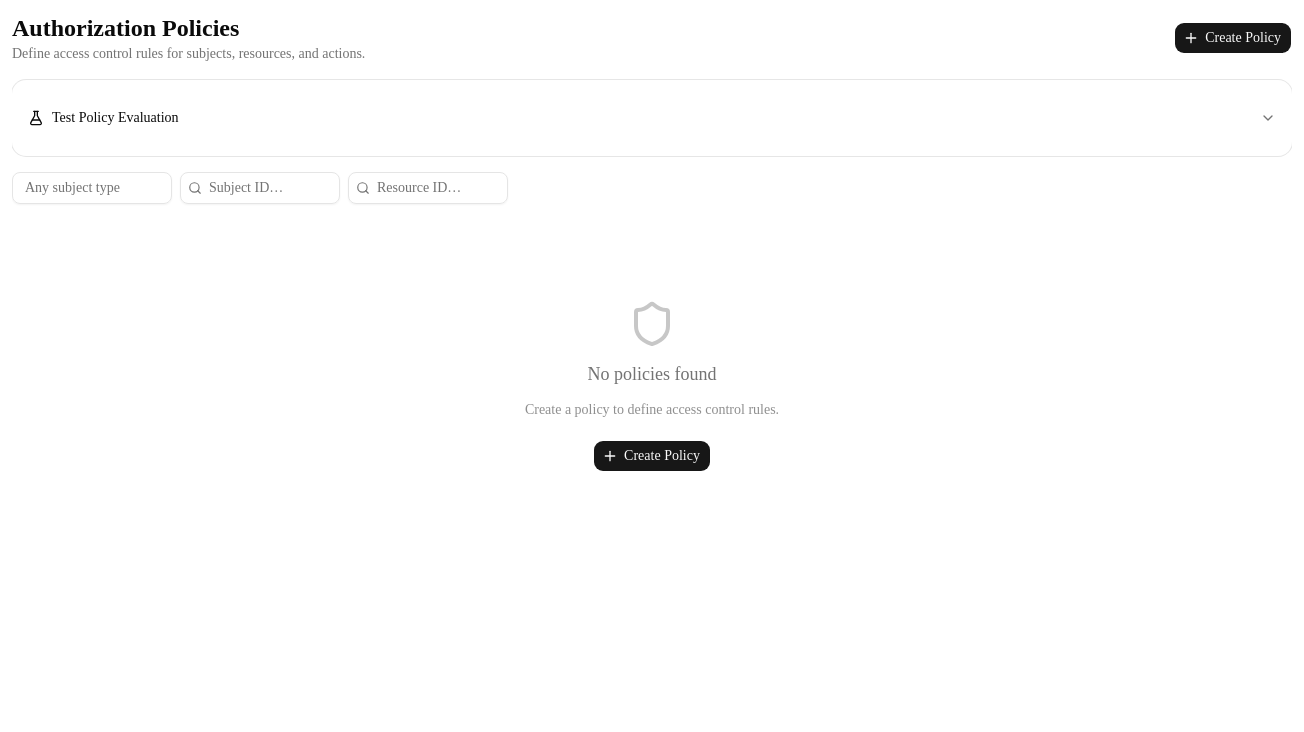
Test: PoliciesPage › clears the previous decision when a later evaluation fails
Click the button "Test Policy Evaluation" at (115, 118), box [12,96,1292,140]
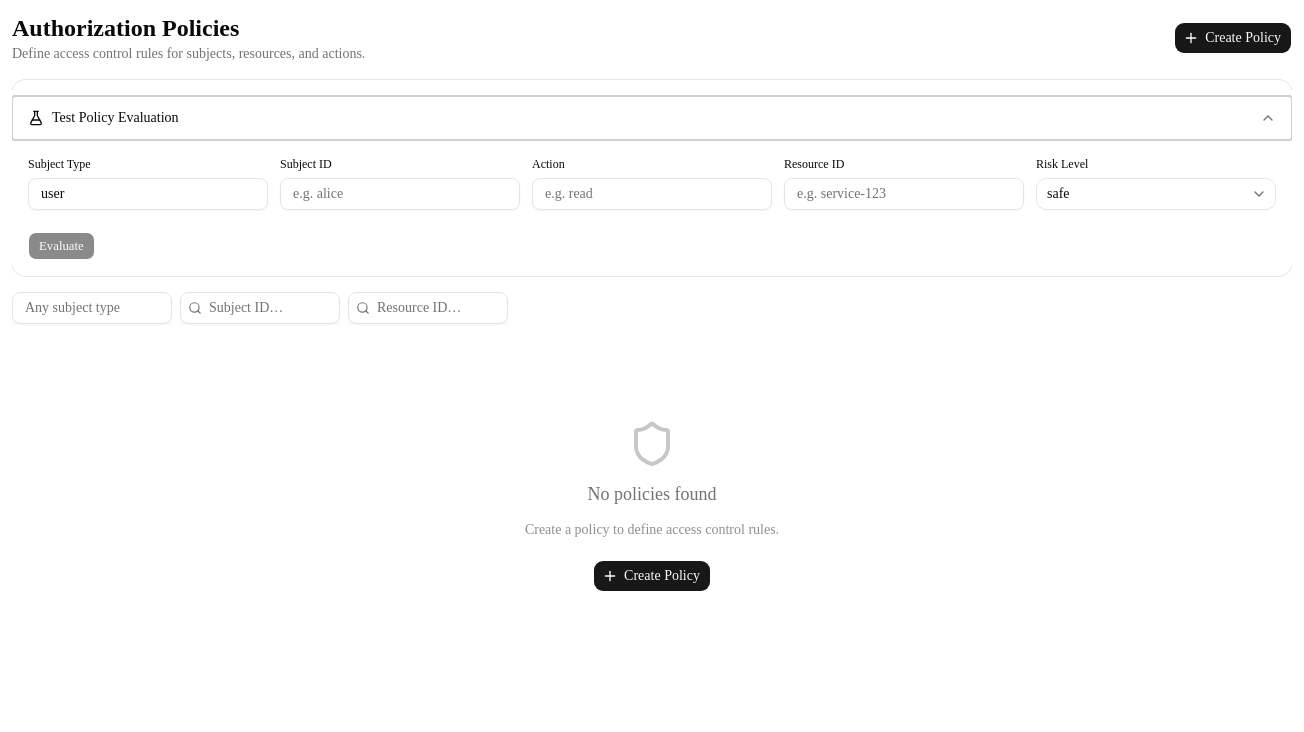
Type "alice" into the field with placeholder "e.g. alice" at (400, 194), box [280,178,520,210]
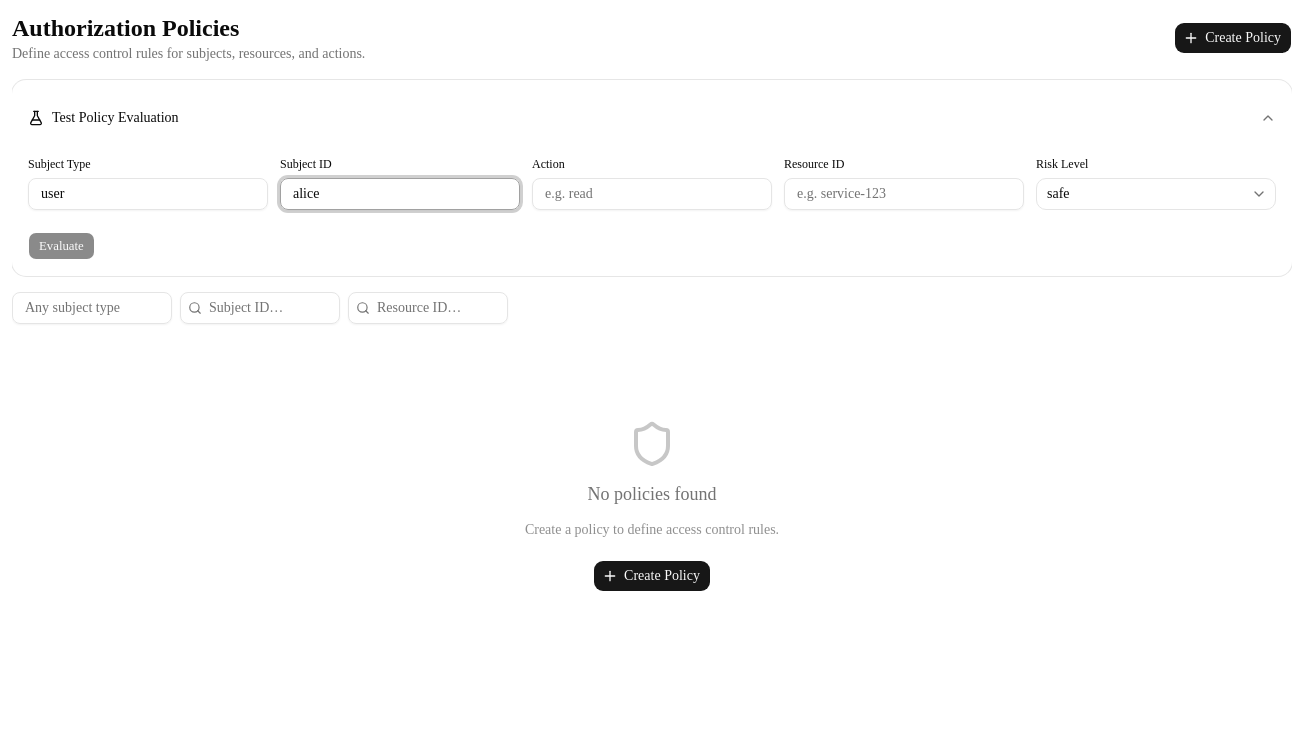
Type "read" into the field with placeholder "e.g. read" at (652, 194), box [532,178,772,210]
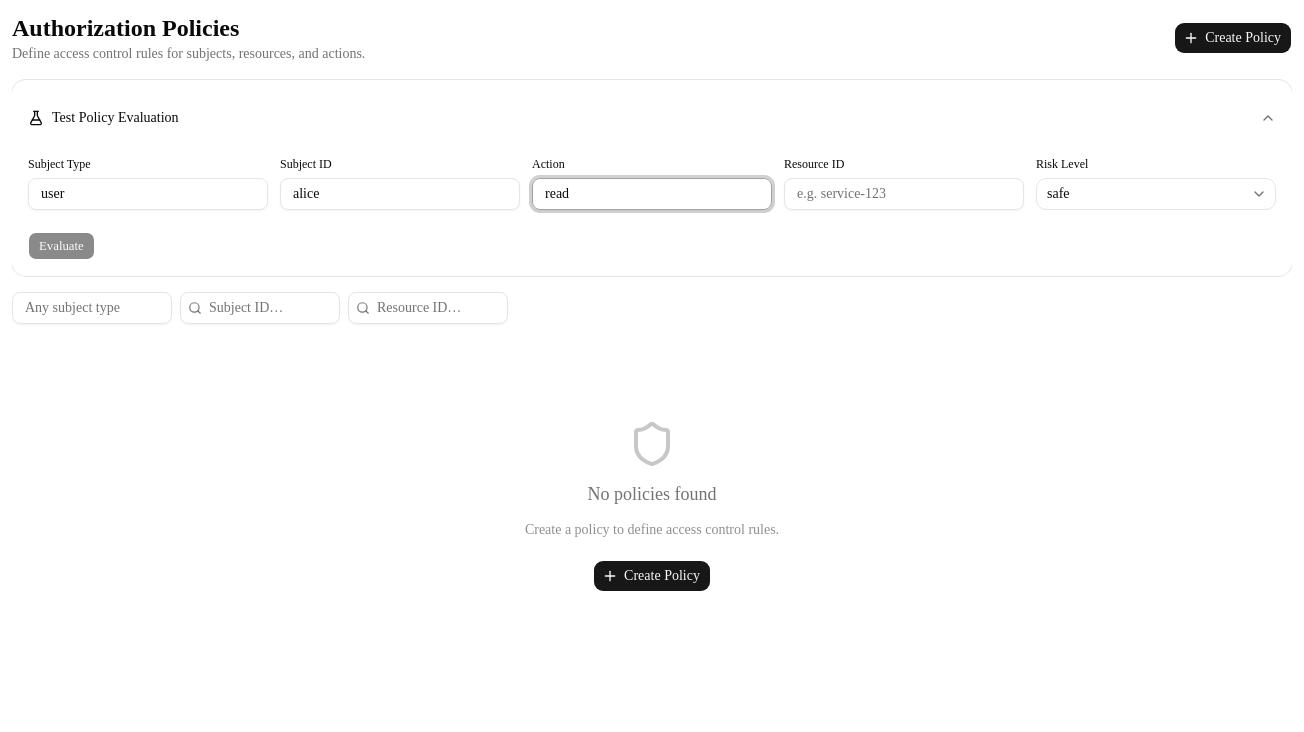
Type "svc-1" into the field with placeholder "e.g. service-123" at (904, 194), box [784,178,1024,210]
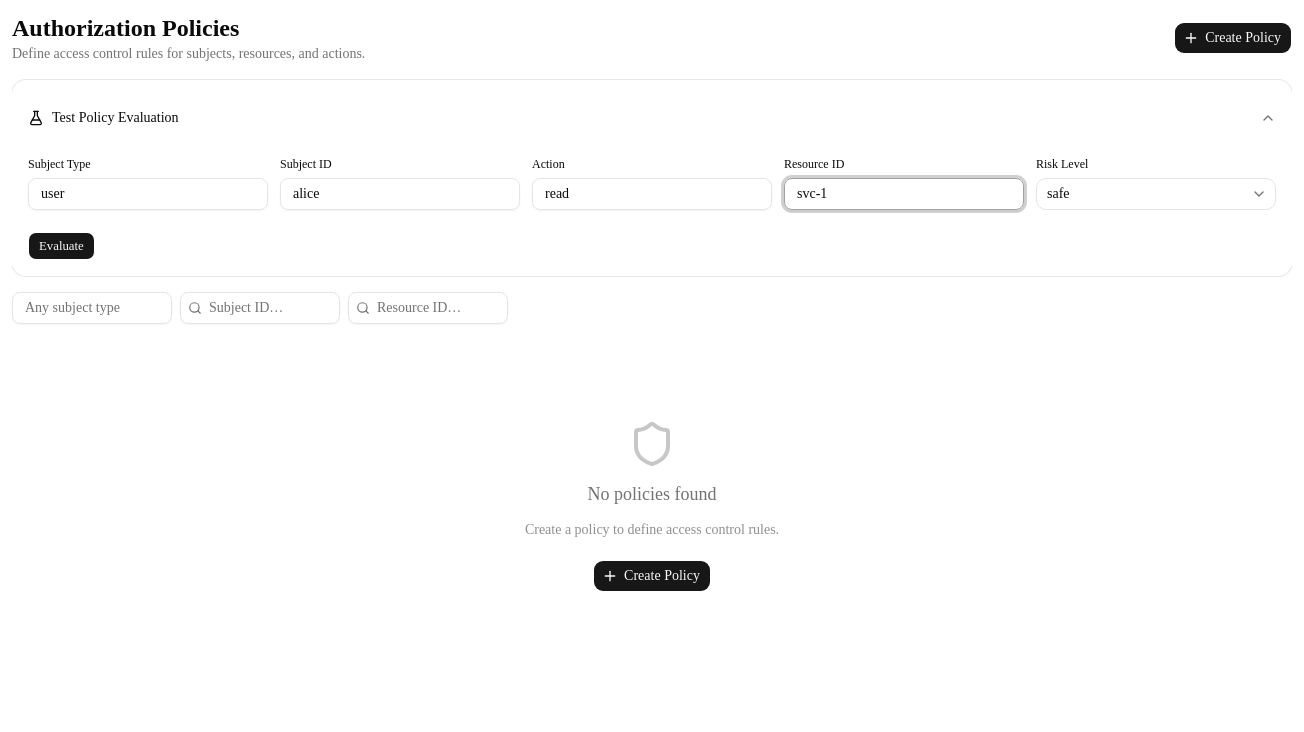
Click the button "Evaluate" at (61, 246), box [28,232,95,260]
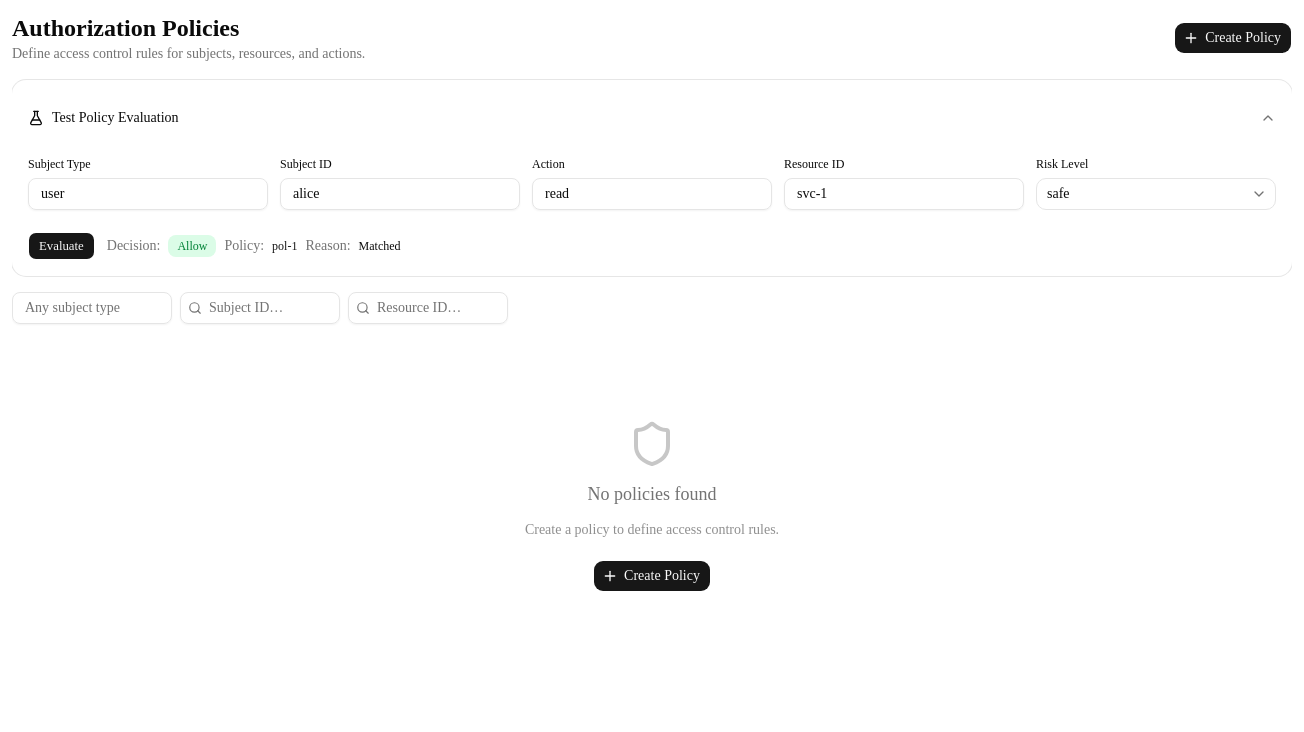
Check: the text "Allow" is shown, box [168,235,216,257]
Click the button "Evaluate" at (61, 246), box [28,232,95,260]
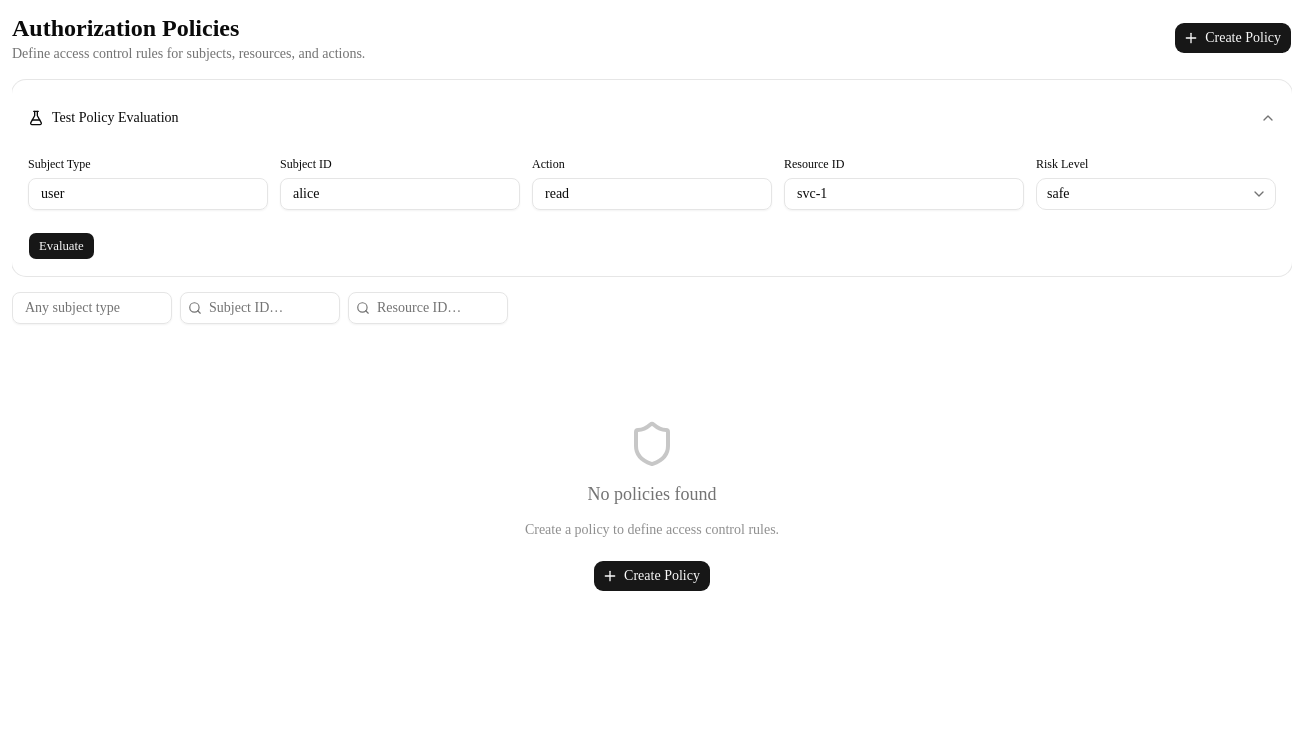
Check: the text "Allow" is gone
